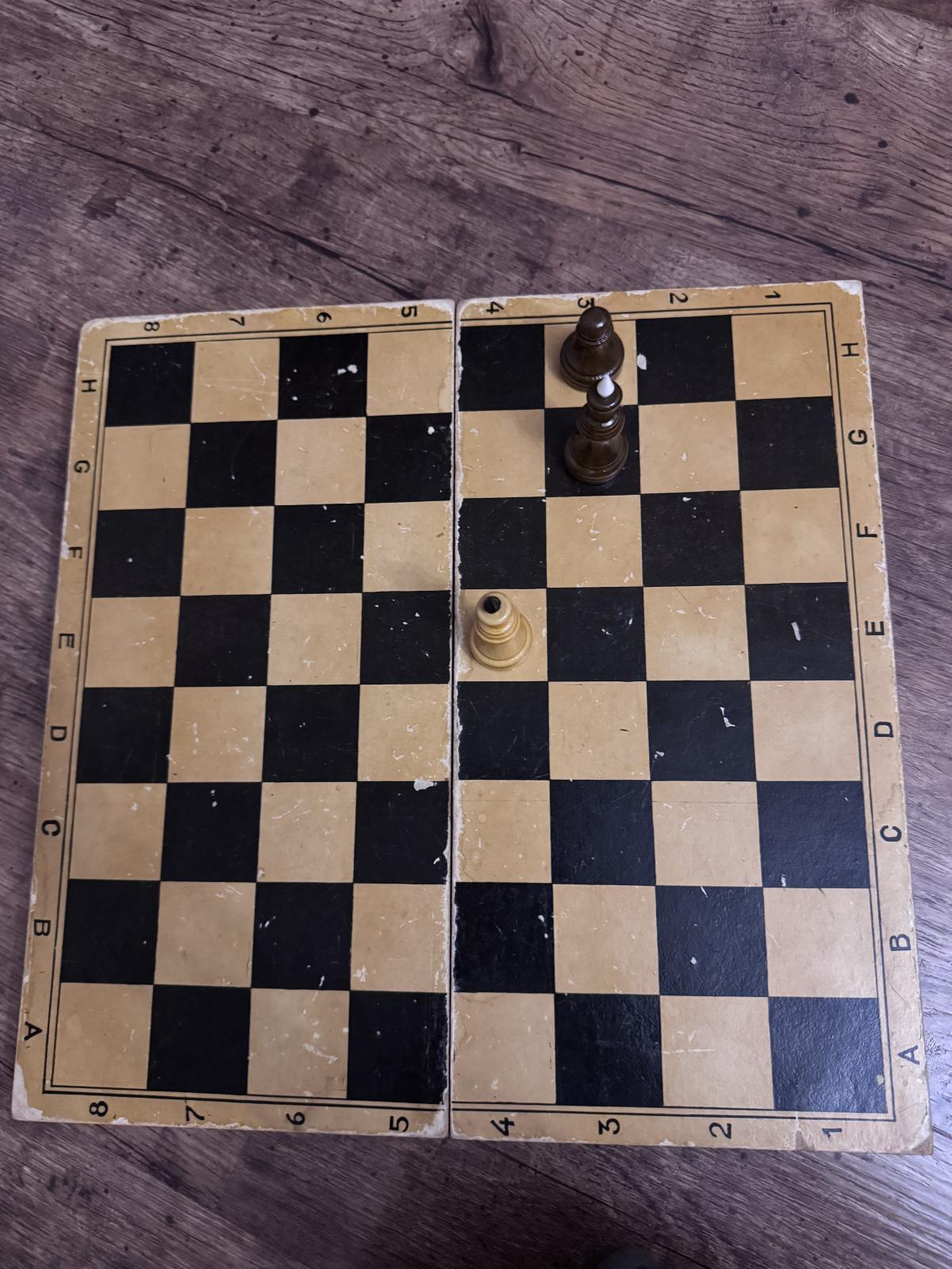Chess-Board: (50, 311, 888, 1112)
